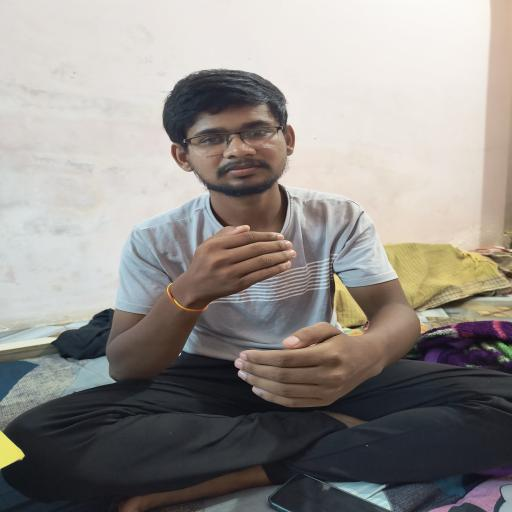Good: (160, 216, 374, 433)
